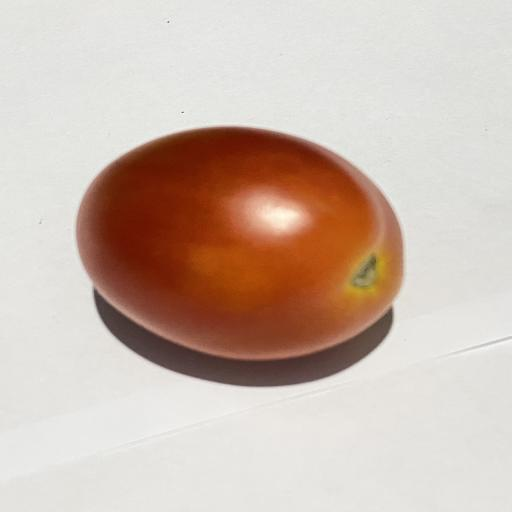ripe: (76, 127, 403, 360)
